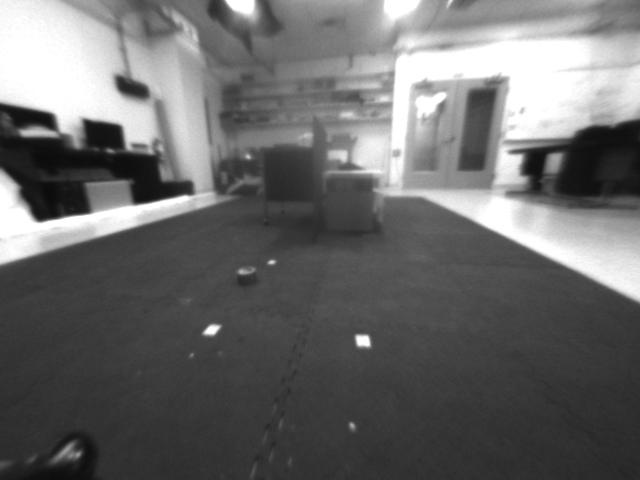dogtoy: (224, 260, 266, 294)
